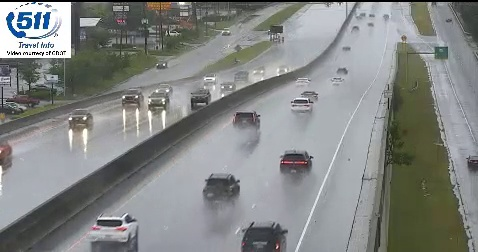car: (89, 213, 139, 243), (241, 222, 288, 252), (203, 174, 240, 203), (280, 151, 312, 172), (232, 111, 259, 129), (290, 97, 312, 111), (300, 92, 318, 102)
